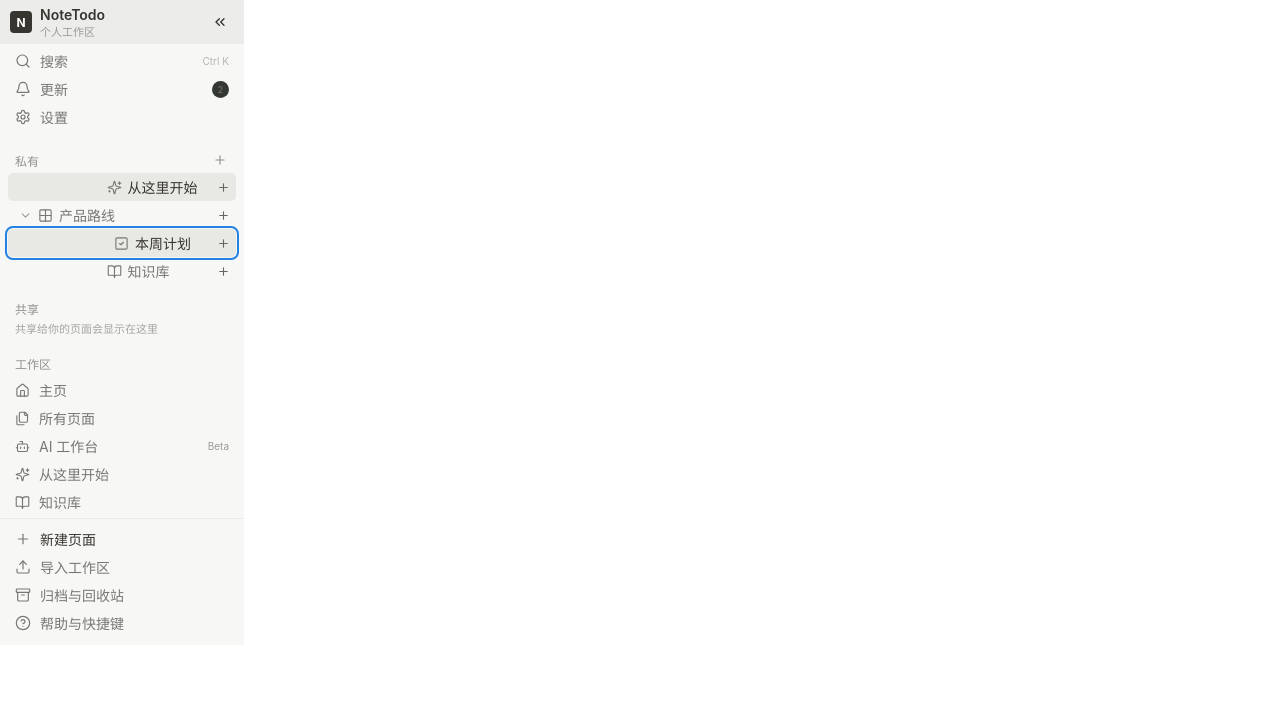
Test: Sidebar › opens page-tree items from the keyboard and closes templates outside
Press Enter in the list item "本周计划", box x1=8 y1=229 x2=236 y2=257
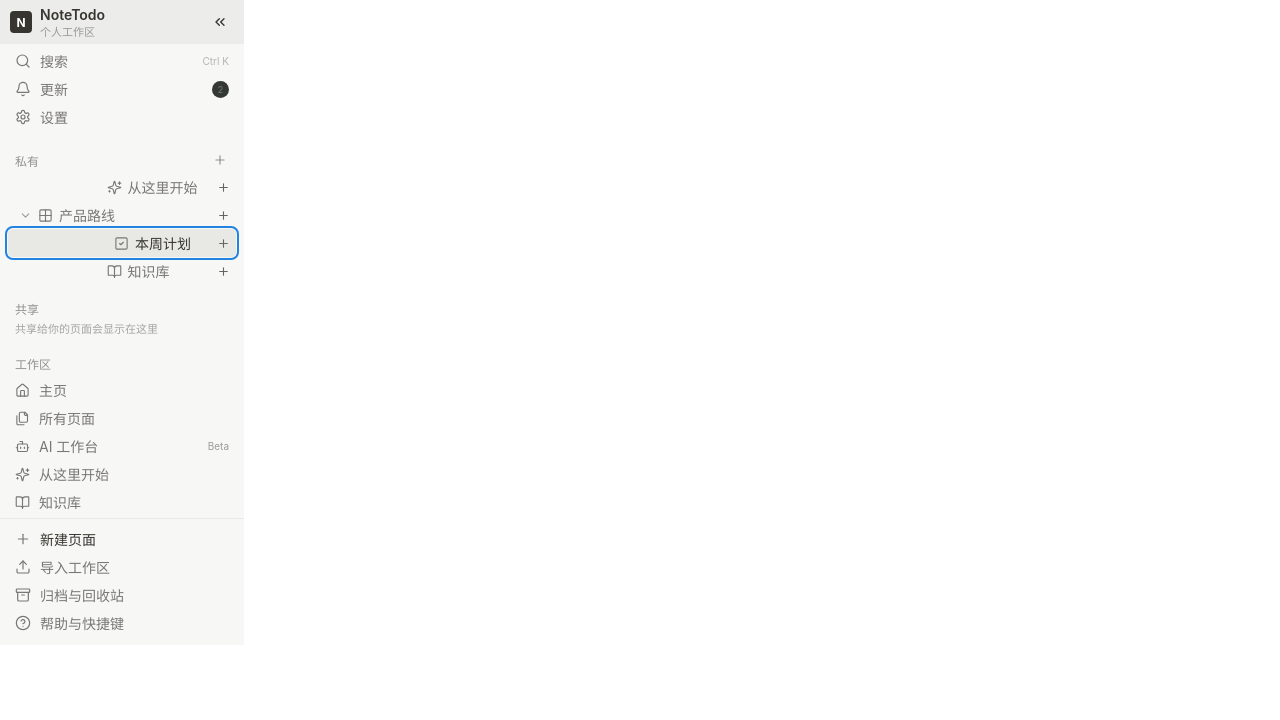
Click the button named "从模板新建页面" at (220, 160), box x1=211 y1=151 x2=229 y2=169
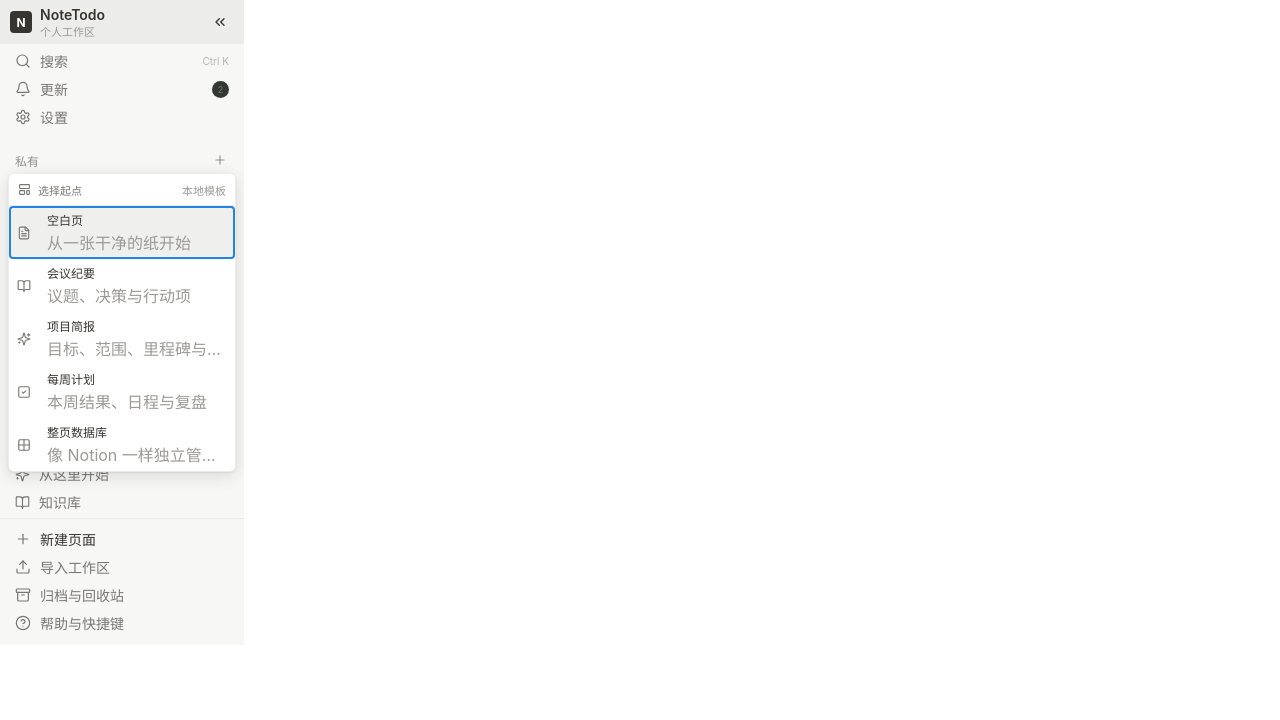
Press the mouse on the element that starts with "NoteTodo" at (640, 323), box x1=0 y1=0 x2=1279 y2=645
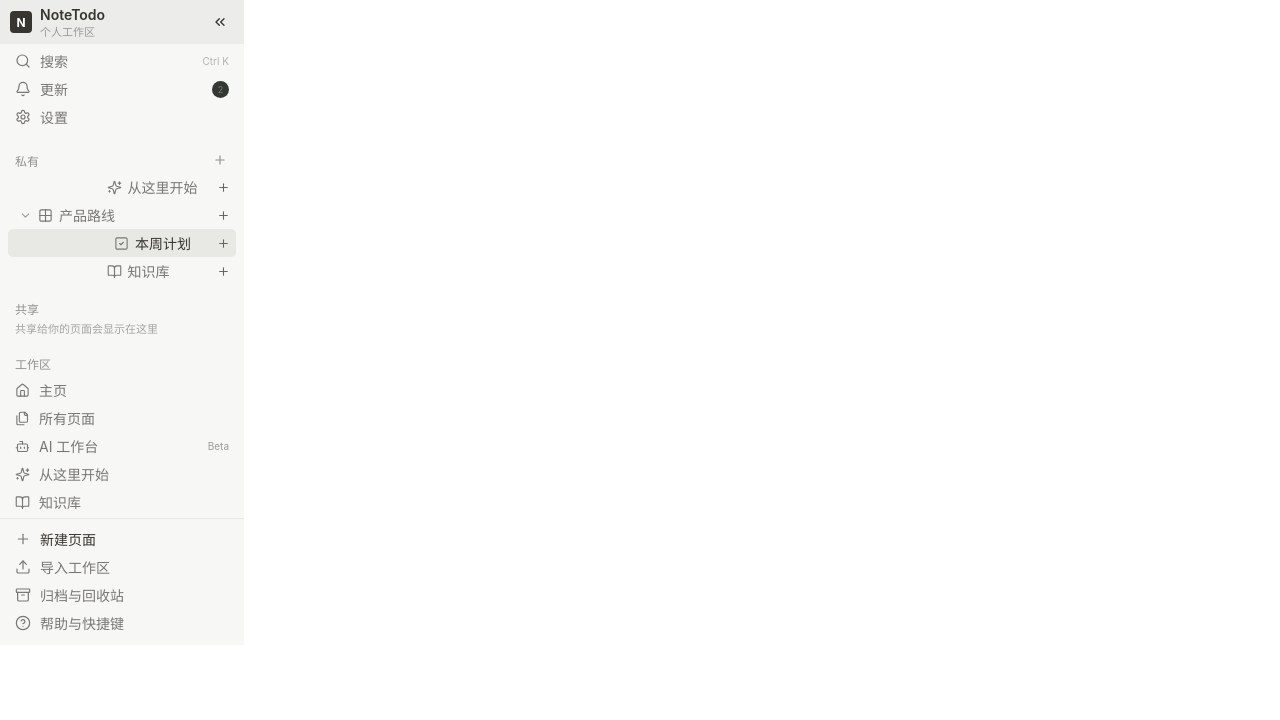
Result: the dialog "选择页面模板" is gone
